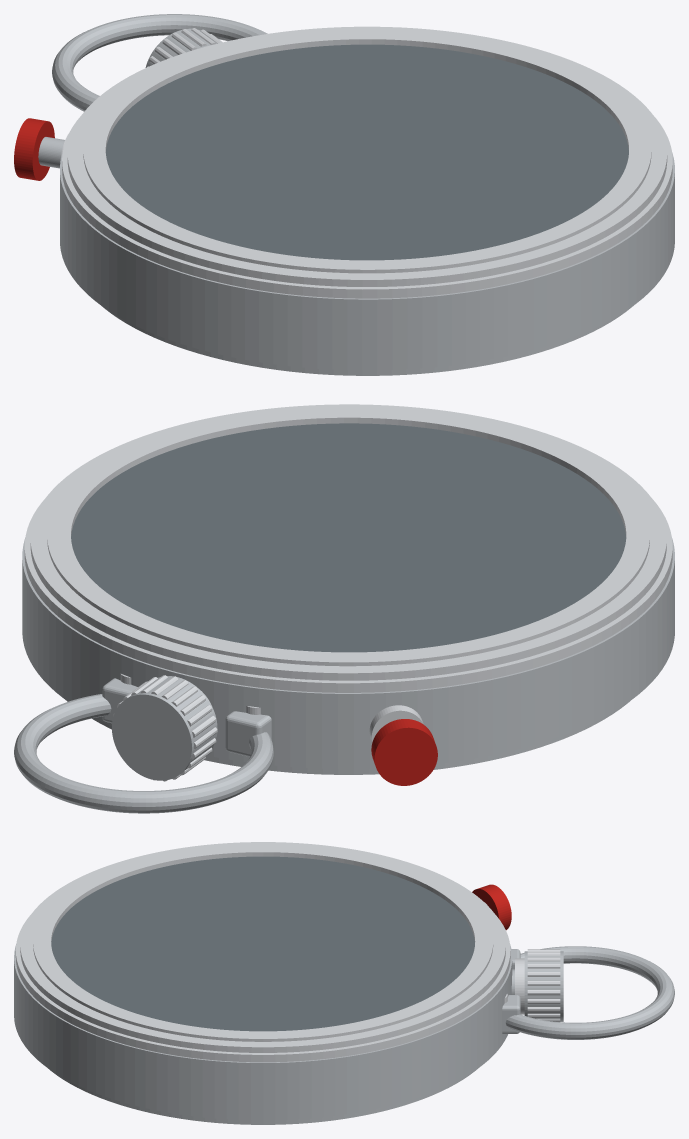
Rendered from A-NEW-20261026-STOPWATCH-001_LOD0_R3.fbx.
3 renders of one model, top to bottom at view 1: azimuth 30°, elevation 25°; view 2: azimuth 150°, elevation 25°; view 3: azimuth 270°, elevation 25°, orthographic. The views are drawn at different scales.
Visible parts, largest first — view 1: front crystal, case perimeter wall, crystal retaining lip, bezel upper rim, bezel lower step, closed suspension loop, closed rear shell, red mushroom reset button, reset metal neck, winding crown; view 2: front crystal, case perimeter wall, crystal retaining lip, bezel upper rim, bezel lower step, closed suspension loop, winding crown, red mushroom reset button, closed rear shell, loop anchor lug, reset fixed collar, loop anchor lug.001; view 3: front crystal, case perimeter wall, crystal retaining lip, bezel upper rim, bezel lower step, closed suspension loop, closed rear shell, winding crown, red mushroom reset button, loop anchor lug.001, crown shoulder.
Part boxes in pixels (left/top/right/bottom): front crystal: left=105, top=44, right=628, bottom=260; case perimeter wall: left=60, top=152, right=674, bottom=370; crystal retaining lip: left=83, top=29, right=651, bottom=273; bezel upper rim: left=67, top=26, right=667, bottom=286; bezel lower step: left=62, top=115, right=672, bottom=298; closed suspension loop: left=52, top=14, right=267, bottom=111; closed rear shell: left=102, top=305, right=633, bottom=375; red mushroom reset button: left=14, top=118, right=54, bottom=180; reset metal neck: left=38, top=137, right=64, bottom=168; winding crown: left=145, top=28, right=216, bottom=67; front crystal: left=71, top=423, right=626, bottom=652; case perimeter wall: left=22, top=538, right=674, bottom=769; crystal retaining lip: left=47, top=407, right=649, bottom=666; bezel upper rim: left=30, top=404, right=666, bottom=680; bezel lower step: left=24, top=499, right=672, bottom=692; closed suspension loop: left=14, top=694, right=273, bottom=813; winding crown: left=112, top=676, right=217, bottom=780; red mushroom reset button: left=371, top=719, right=437, bottom=785; closed rear shell: left=67, top=701, right=629, bottom=774; loop anchor lug: left=225, top=711, right=271, bottom=756; reset fixed collar: left=369, top=705, right=423, bottom=742; loop anchor lug.001: left=102, top=678, right=137, bottom=723; front crystal: left=51, top=856, right=474, bottom=1031; case perimeter wall: left=14, top=944, right=512, bottom=1120; crystal retaining lip: left=33, top=844, right=493, bottom=1041; bezel upper rim: left=20, top=842, right=505, bottom=1052; bezel lower step: left=15, top=913, right=510, bottom=1062; closed suspension loop: left=505, top=946, right=674, bottom=1039; closed rear shell: left=48, top=1068, right=476, bottom=1124; winding crown: left=524, top=951, right=563, bottom=1021; red mushroom reset button: left=472, top=884, right=511, bottom=930; loop anchor lug.001: left=502, top=995, right=520, bottom=1033; crown shoulder: left=515, top=958, right=524, bottom=1014.
Bounding box in the file's own units: 5.5 × 1 × 7.29.
